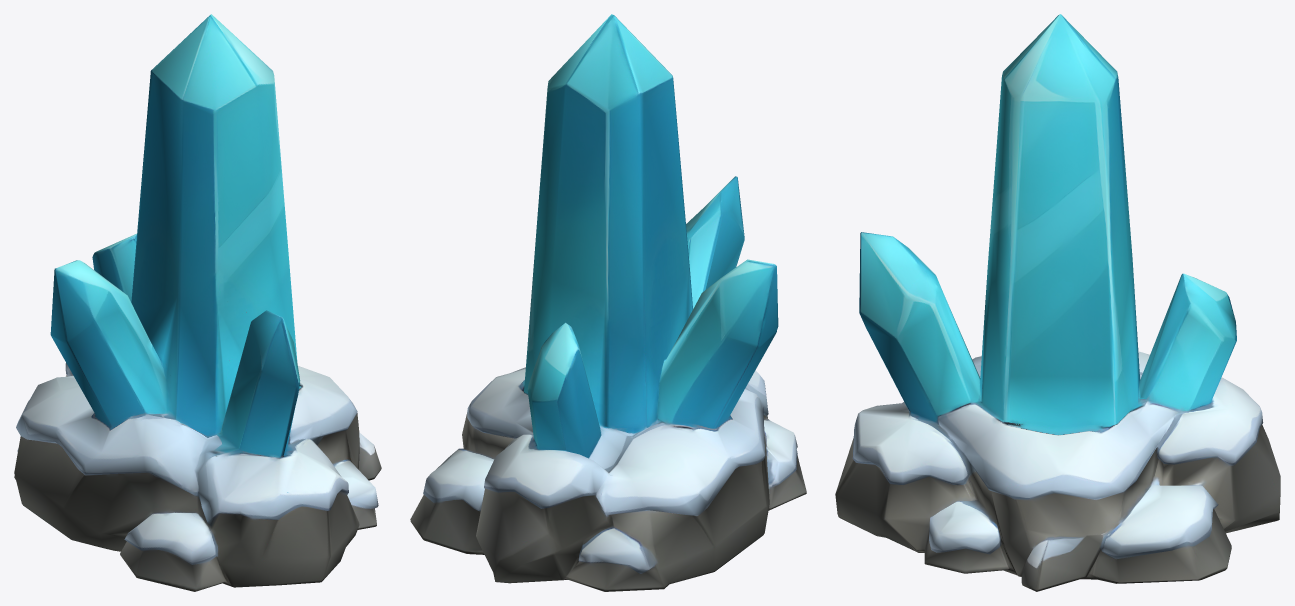
The picture shows the model from 3 angles, left to right: view 1: azimuth 30°, elevation 25°; view 2: azimuth 150°, elevation 25°; view 3: azimuth 270°, elevation 25°; orthographic projection. The views are drawn at different scales.
Visible parts, largest first — view 1: tripo_node_b59679d8-9712-433f-a092-bc67399daffb; view 2: tripo_node_b59679d8-9712-433f-a092-bc67399daffb; view 3: tripo_node_b59679d8-9712-433f-a092-bc67399daffb.
Boxes of the visible parts, x1=… form: tripo_node_b59679d8-9712-433f-a092-bc67399daffb: x1=14, y1=14, x2=381, y2=591; tripo_node_b59679d8-9712-433f-a092-bc67399daffb: x1=410, y1=14, x2=806, y2=591; tripo_node_b59679d8-9712-433f-a092-bc67399daffb: x1=835, y1=14, x2=1280, y2=591.
Bounding box in the file's own units: 0.6771 × 1 × 0.8004.
Materials: 1 (1 with a texture image).
